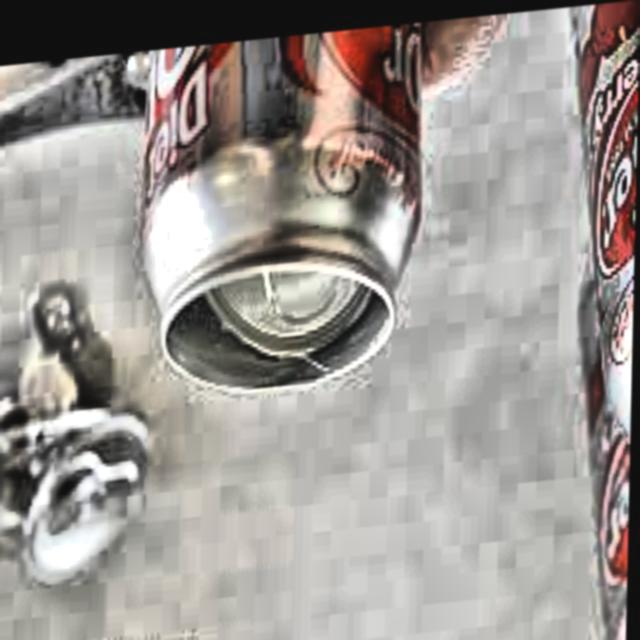can: (128, 16, 449, 447)
